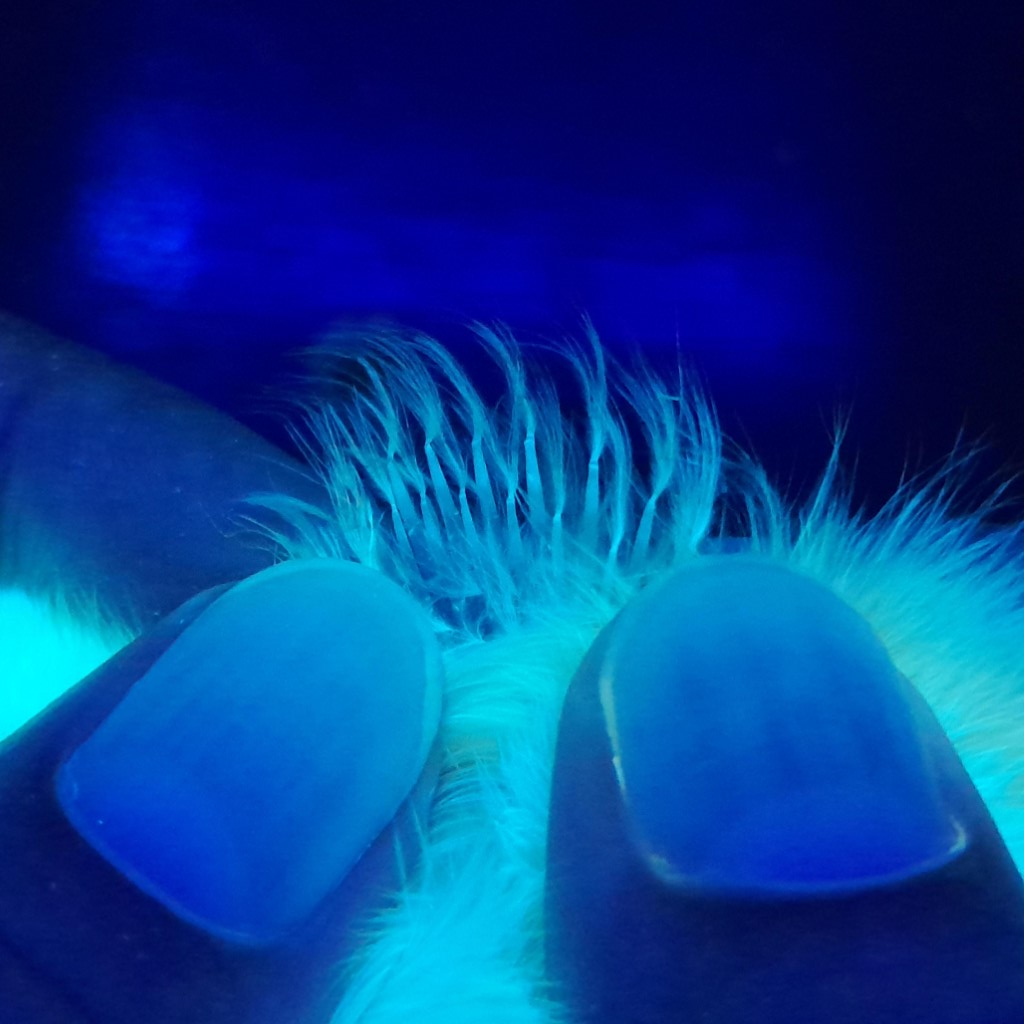female: (369, 399, 695, 653)
